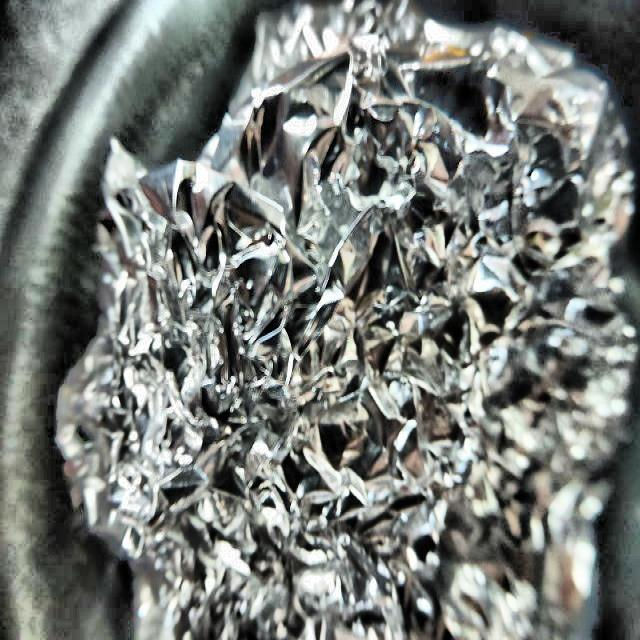Foil: (54, 0, 640, 640)
